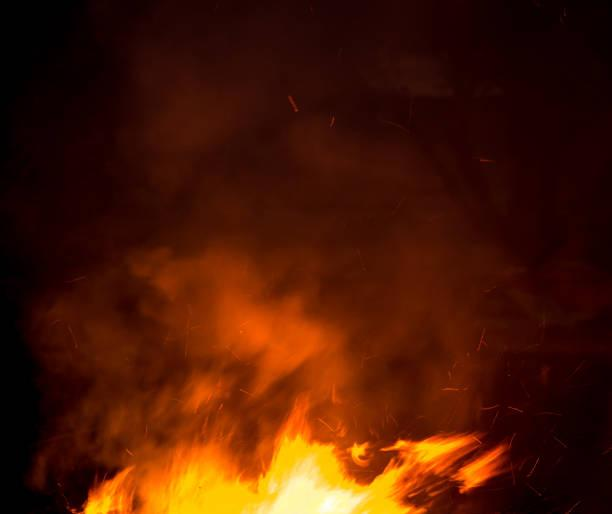Fire: (57, 405, 520, 514)
